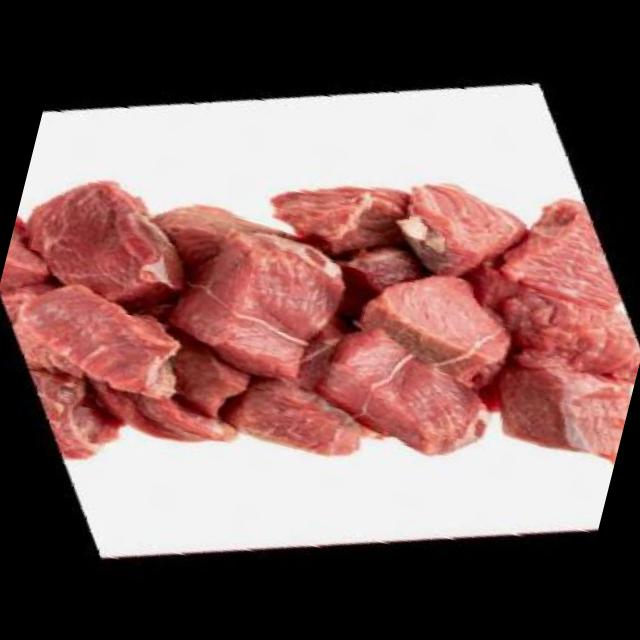beef: (0, 26, 640, 623)
